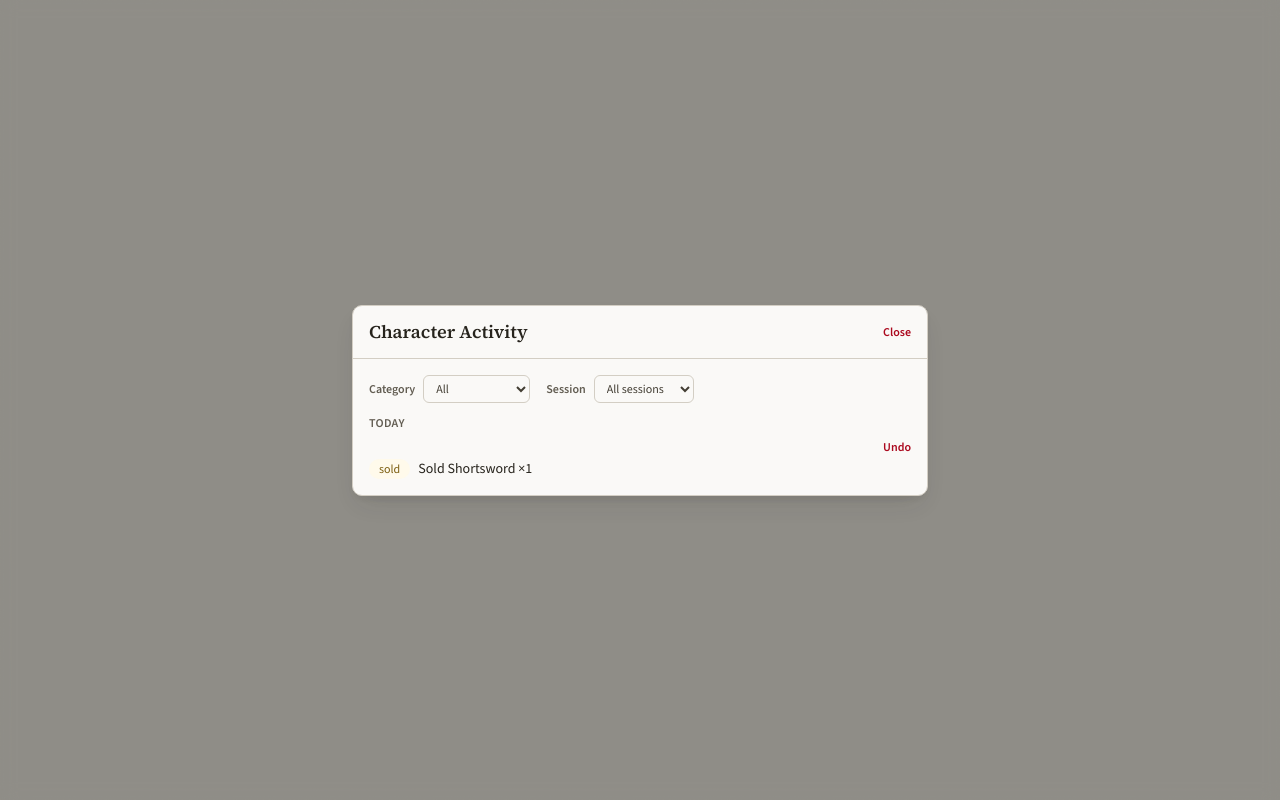
Test: ActivityModal undo eligibility › hides Undo while a category filter is active (server LIFO guard would 409)
Expected: the text "Sold Shortsword ×1" is shown, 418,458 -> 532,478
Expected: the button "Undo" is shown, 883,438 -> 911,454
Step 1. Select "Inventory" in the dropdown labelled "Category" → (477, 388), box 423,374 -> 530,402
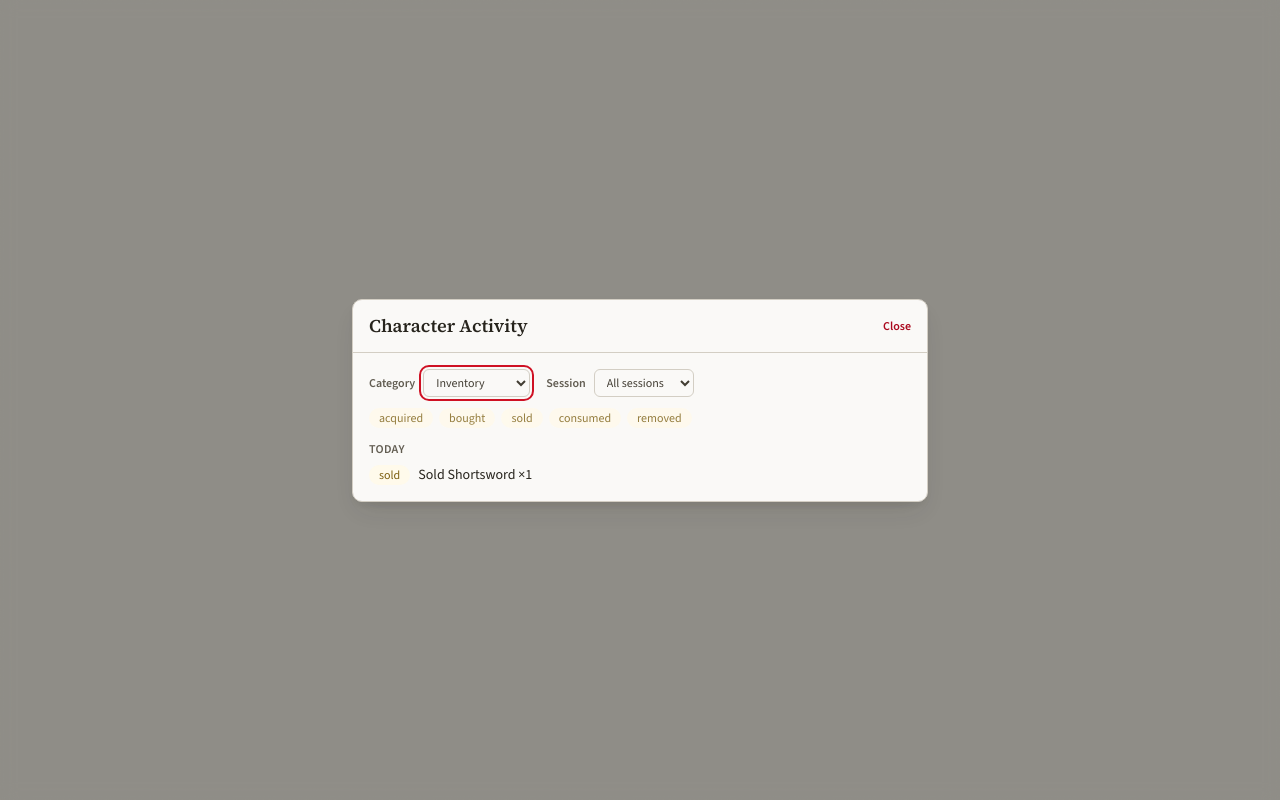
Expected: the text "Sold Shortsword ×1" is shown, 418,464 -> 532,484
Expected: the button "Undo" is gone
